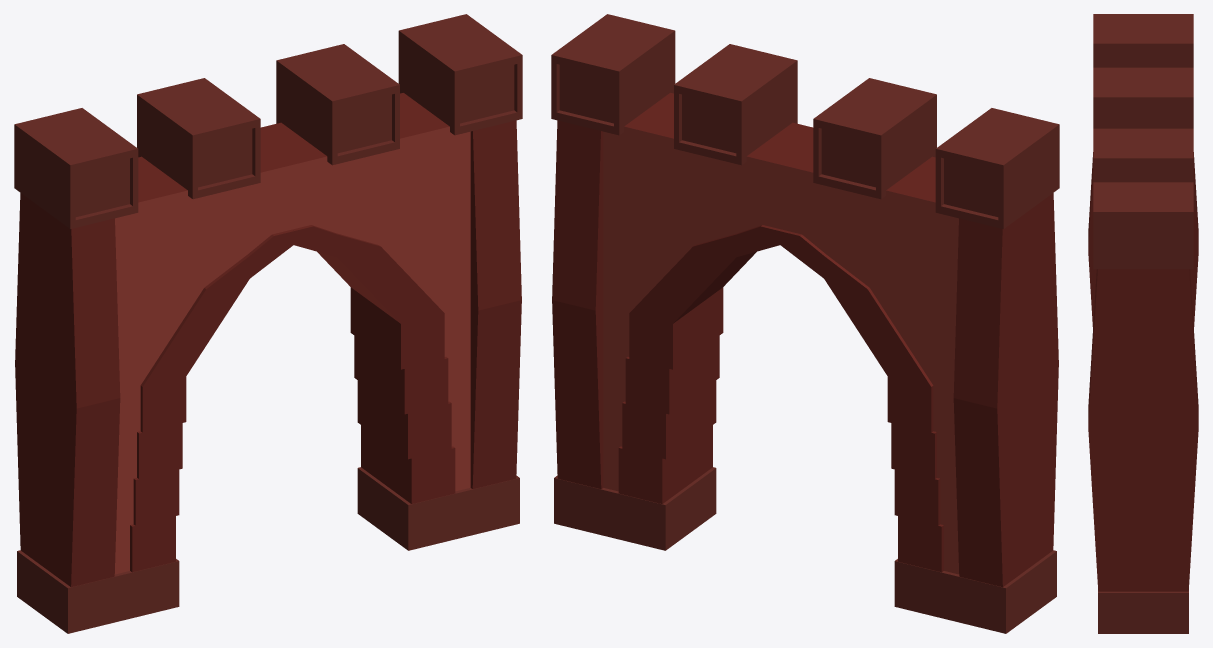
Rendered from Archway_1_Red.fbx.
3 renders of one model, left to right at view 1: azimuth 30°, elevation 25°; view 2: azimuth 150°, elevation 25°; view 3: azimuth 270°, elevation 25°, orthographic. The views are drawn at different scales.
Parts seen in each view (by area): view 1: Archway_1_Red_Part_2, Archway_1_Red_Part_3, Archway_1_Red_Part_1; view 2: Archway_1_Red_Part_2, Archway_1_Red_Part_3, Archway_1_Red_Part_1; view 3: Archway_1_Red_Part_2, Archway_1_Red_Part_3.
Boxes of the visible parts, x1=… form: Archway_1_Red_Part_2: x1=15, y1=93, x2=521, y2=587; Archway_1_Red_Part_3: x1=14, y1=14, x2=522, y2=633; Archway_1_Red_Part_1: x1=114, y1=126, x2=470, y2=574; Archway_1_Red_Part_2: x1=552, y1=93, x2=1058, y2=587; Archway_1_Red_Part_3: x1=551, y1=14, x2=1059, y2=633; Archway_1_Red_Part_1: x1=603, y1=126, x2=959, y2=574; Archway_1_Red_Part_2: x1=1088, y1=152, x2=1198, y2=591; Archway_1_Red_Part_3: x1=1093, y1=14, x2=1193, y2=633.
Size of the model in its own units: 518 by 515 by 122.
